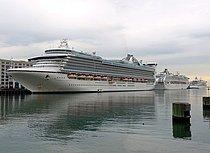Ship: (7, 34, 161, 95)
